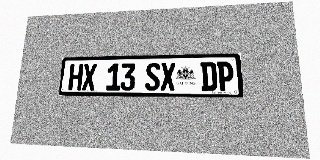1: (106, 63, 121, 90)
3: (120, 63, 135, 91)
D: (200, 62, 217, 91)
H: (68, 64, 83, 90)
P: (217, 62, 234, 91)
S: (145, 63, 160, 91)
X: (160, 62, 175, 91), (82, 64, 97, 90)
